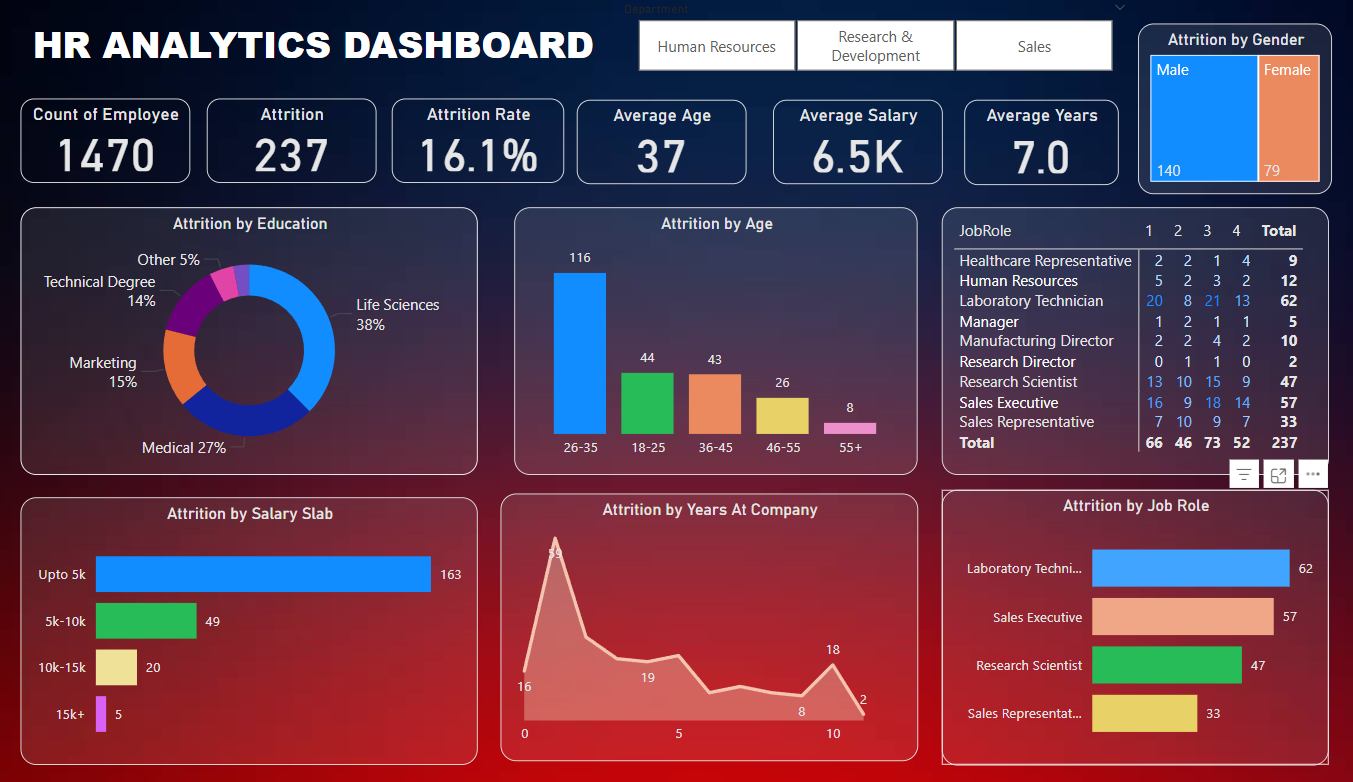

The page's visual inventory and layout, read from the dashboard file:
{"tool":"powerbi","page":{"name":"Page 1","canvas":[1280,720],"ordinal":0},"visuals":[{"type":"card","title":"Count of Employee","fields":{"Values":["CountNonNull(HR_Analytics.EmpID)"]},"box":[24.5,90.8,150.9,74.8],"z":0},{"type":"card","title":"Attrition","fields":{"Values":["Sum(HR_Analytics.AttritionCount)"]},"box":[190.2,90.8,150.9,74.8],"z":1000},{"type":"card","title":"Attrition Rate","fields":{"Values":["HR_Analytics.AttritionRate"]},"box":[354.6,90.8,153.4,74.8],"z":2000},{"type":"card","title":"Average Age","fields":{"Values":["Avg(HR_Analytics.Age)"]},"box":[520.2,92,150.9,74.8],"z":3000},{"type":"card","title":"Average Salary ","fields":{"Values":["Avg(HR_Analytics.MonthlyIncome)"]},"box":[694.5,92,150.9,74.8],"z":4000},{"type":"card","title":"Average Years","fields":{"Values":["Avg(HR_Analytics.YearsAtCompany)"]},"box":[865,92,137.4,76.1],"z":5000},{"type":"donutChart","title":"Attrition by Education","fields":{"Category":["HR_Analytics.EducationField"],"Y":["Sum(HR_Analytics.AttritionCount)"]},"box":[24.5,187.7,407.4,238],"z":6000},{"type":"columnChart","title":"Attrition by Age","fields":{"Category":["HR_Analytics.AgeGroup"],"Y":["Sum(HR_Analytics.AttritionCount)"]},"box":[463.8,187.7,359.5,238],"z":7000},{"type":"pivotTable","fields":{"Rows":["HR_Analytics.JobRole"],"Columns":["HR_Analytics.JobSatisfaction"],"Values":["Sum(HR_Analytics.AttritionCount)"]},"box":[845.4,187.7,344.8,238],"z":8000},{"type":"barChart","title":"Attrition by Salary Slab","fields":{"Category":["HR_Analytics.SalarySlab"],"Y":["Sum(HR_Analytics.AttritionCount)"]},"box":[24.5,446.6,407.4,238],"z":9000},{"type":"barChart","title":"Attrition by Job Role","fields":{"Category":["HR_Analytics.JobRole"],"Y":["Sum(HR_Analytics.AttritionCount)"]},"box":[845.4,439.3,344.8,245.4],"z":10000},{"type":"areaChart","title":"Attrition by Years At Company","fields":{"Category":["HR_Analytics.YearsAtCompany"],"Y":["Sum(HR_Analytics.AttritionCount)"]},"box":[451.5,442.9,371.8,238],"z":11000},{"type":"treemap","title":"Attrition by Gender","fields":{"Group":["HR_Analytics.Gender"],"Values":["Sum(HR_Analytics.AttritionCount)"]},"box":[1020,25,173,152.1],"z":12000},{"type":"slicer","fields":{"Values":["HR_Analytics.Department"]},"box":[548.5,0,472.4,73.6],"z":13000},{"type":"textbox","box":[13.5,16,543.6,68.7],"z":14000}]}

Visuals, with their boxes in screenshot pixels (x1, y1, x2, y2), scaled from the page's 1280x720 canvas onto the 1353x782 screenshot:
"Count of Employee" card: 26:99:185:180
"Attrition" card: 201:99:361:180
"Attrition Rate" card: 375:99:537:180
"Average Age" card: 550:100:709:181
"Average Salary " card: 734:100:894:181
"Average Years" card: 914:100:1060:183
"Attrition by Education" donutChart: 26:204:457:462
"Attrition by Age" columnChart: 490:204:870:462
pivotTable - HR_Analytics.JobRole x HR_Analytics.JobSatisfaction: 894:204:1258:462
"Attrition by Salary Slab" barChart: 26:485:457:744
"Attrition by Job Role" barChart: 894:477:1258:744
"Attrition by Years At Company" areaChart: 477:481:870:740
"Attrition by Gender" treemap: 1078:27:1261:192
slicer - HR_Analytics.Department: 580:0:1079:80
textbox: 14:17:589:92
